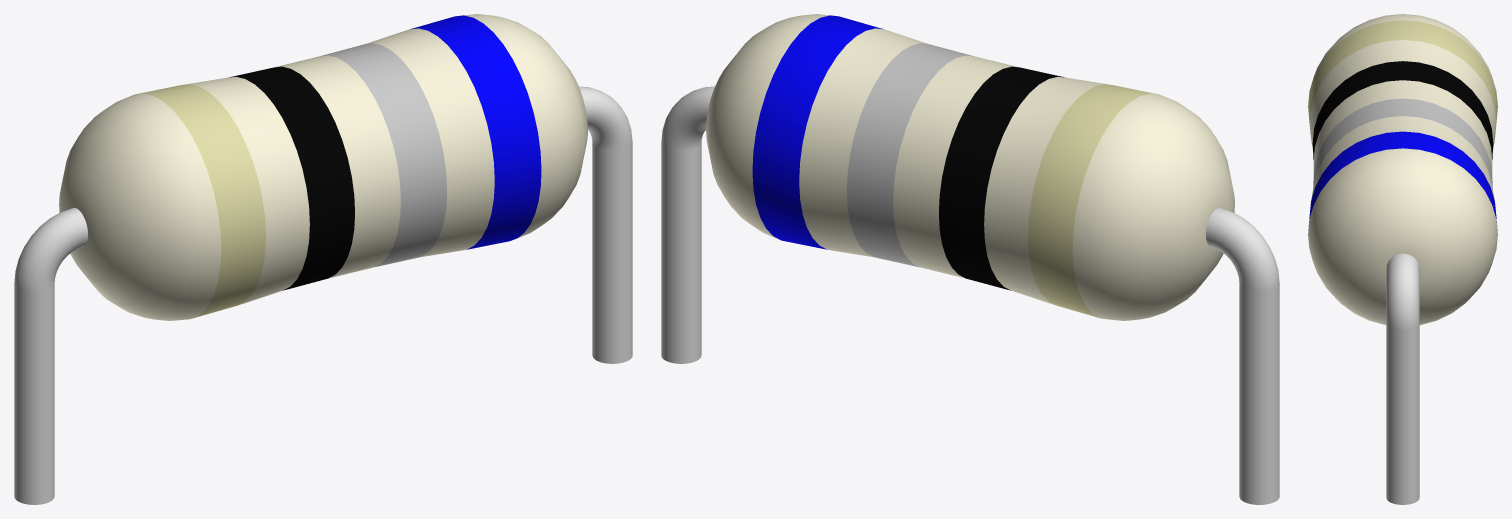
The model's file is Axial0_4_68.fbx.
3 renders of one model, left to right at view 1: azimuth 30°, elevation 25°; view 2: azimuth 150°, elevation 25°; view 3: azimuth 270°, elevation 25°, orthographic. The views are drawn at different scales.
Visible parts, largest first — view 1: Axial0_4_1K; view 2: Axial0_4_1K; view 3: Axial0_4_1K.
Part boxes in pixels (x1,y1,x2,y2): Axial0_4_1K: (14, 14, 632, 504); Axial0_4_1K: (661, 14, 1279, 504); Axial0_4_1K: (1308, 14, 1497, 504).
Bounding box in the file's own units: 1.07 × 0.6072 × 0.3507.
